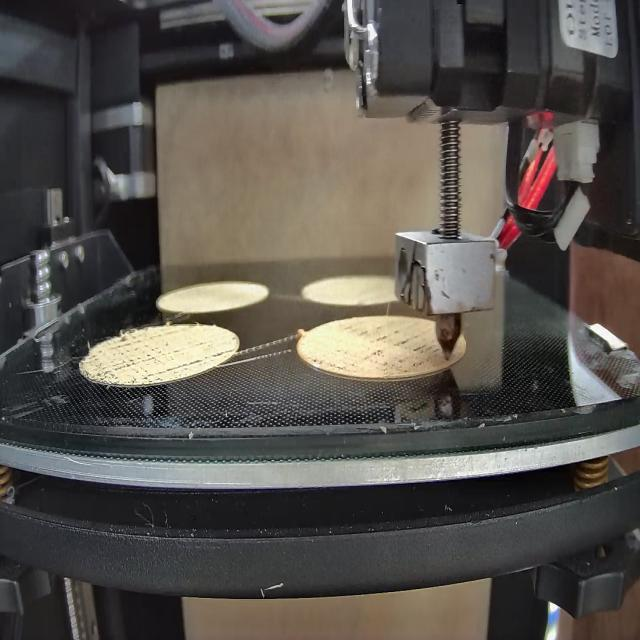under_extrusion: (314, 328, 443, 375), (85, 331, 202, 381), (208, 343, 238, 365)
